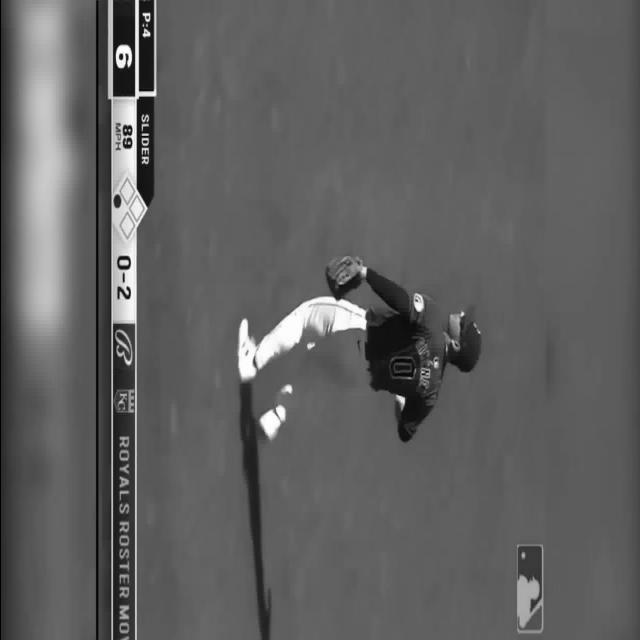baseball_glove: (324, 253, 364, 300)
shoe: (236, 317, 256, 382), (258, 406, 282, 440)
